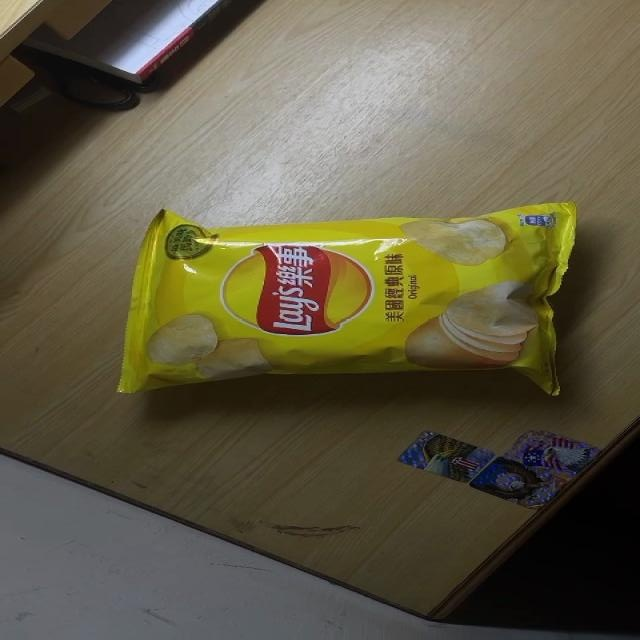Lay-s-original: (114, 203, 582, 397)
